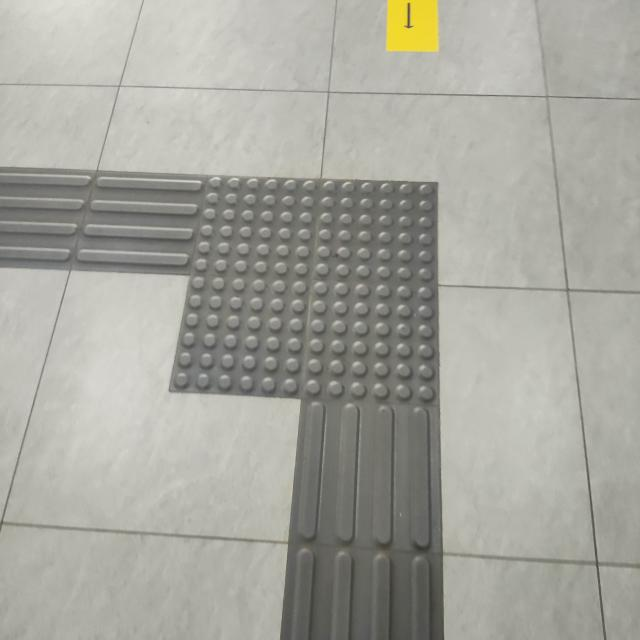kiri: (13, 113, 519, 471)
